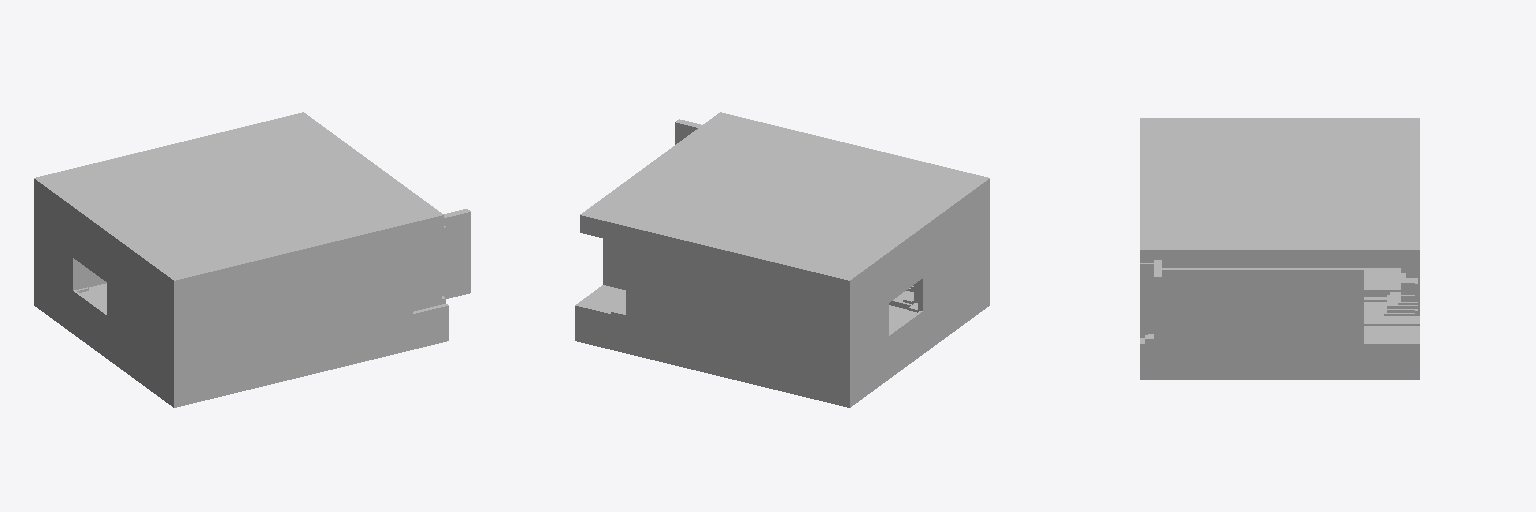
The model's file is Place_2.obj.
3 renders of one model, left to right at view 1: azimuth 30°, elevation 25°; view 2: azimuth 150°, elevation 25°; view 3: azimuth 270°, elevation 25°, orthographic.
Visible parts, largest first — view 1: object 1; view 2: object 1; view 3: object 1.
Boxes of the visible parts, x1,y1,x2,y2 form: object 1: [34, 112, 470, 407]; object 1: [575, 112, 989, 407]; object 1: [1140, 118, 1419, 379].
Size of the model in its own units: 12.5 by 5 by 10.